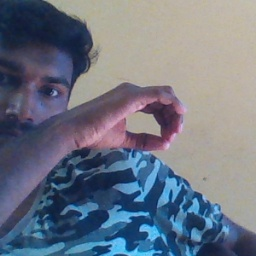O: (70, 68, 190, 165)
